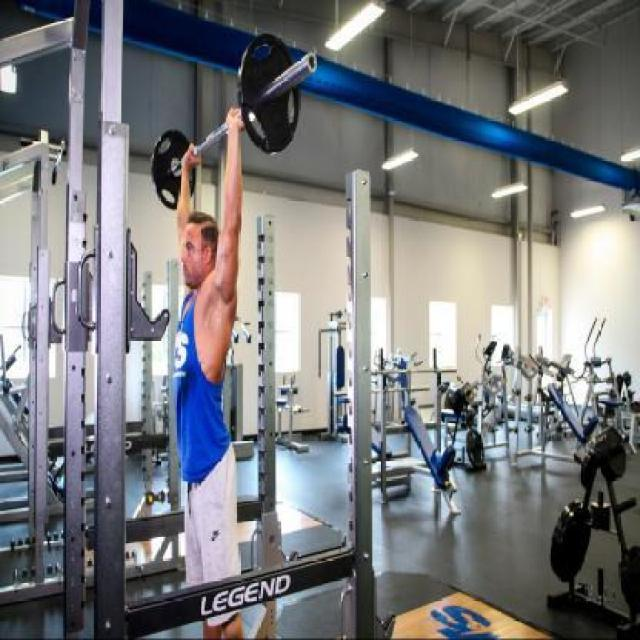barbell: (235, 31, 321, 158)
